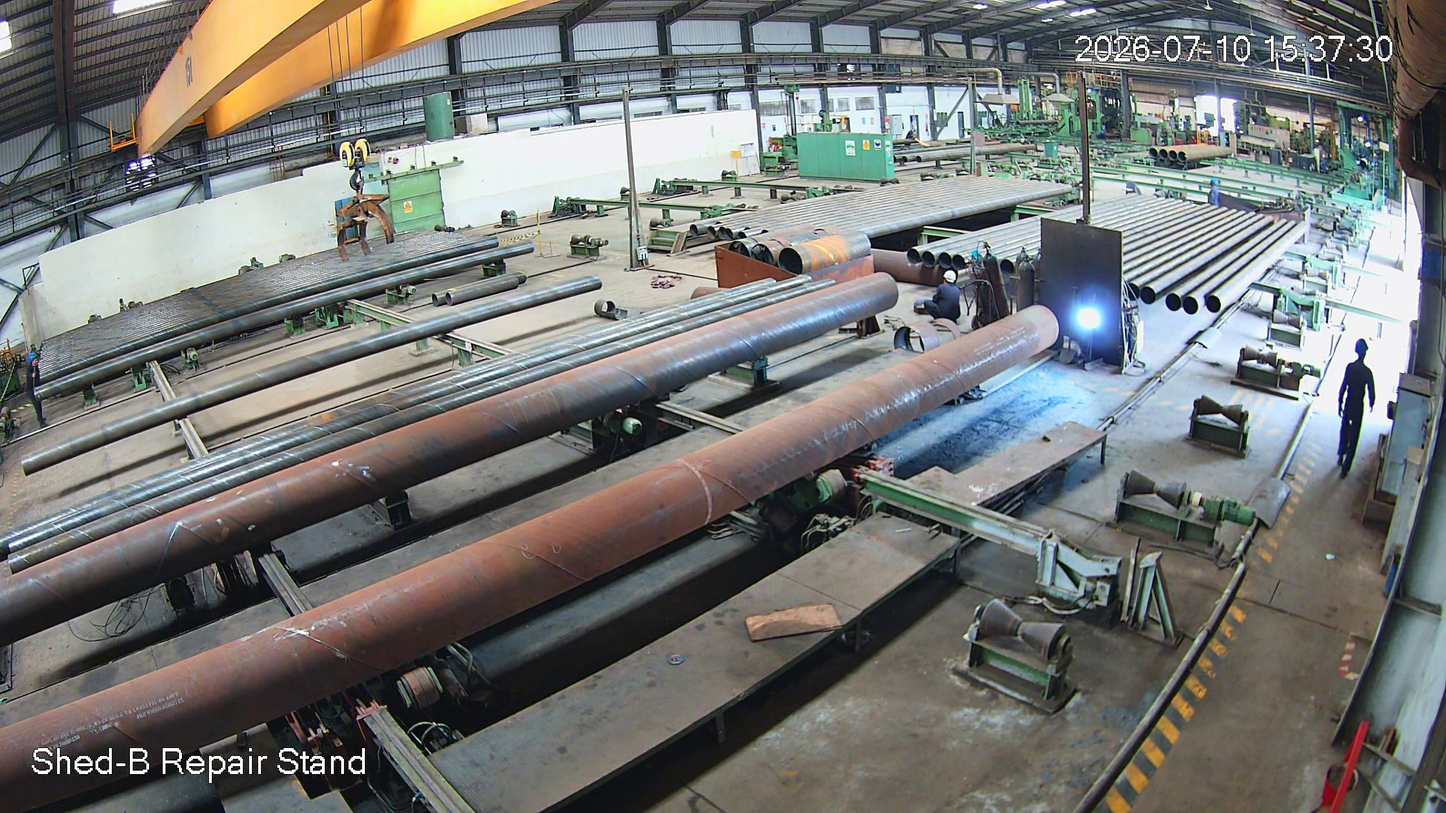Helmet: (936, 258, 962, 290), (1352, 329, 1370, 365)
Person: (1347, 333, 1375, 494), (933, 265, 960, 328)
